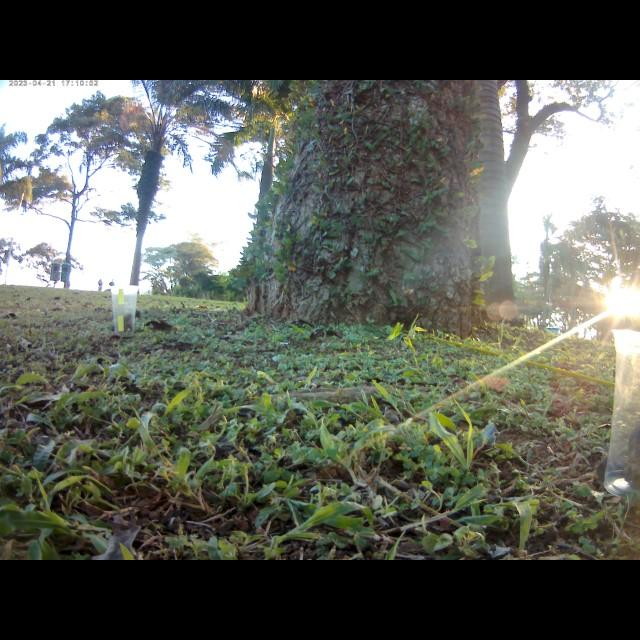arvore: (234, 89, 506, 350)
